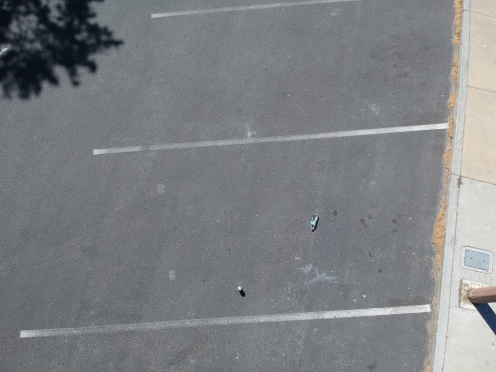bottle: (306, 209, 321, 232)
can: (233, 284, 249, 294)
